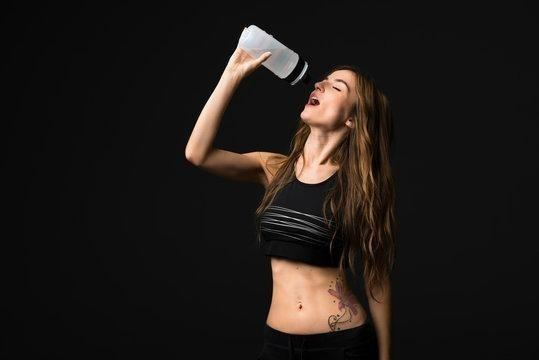gym bottle: (238, 23, 309, 85)
